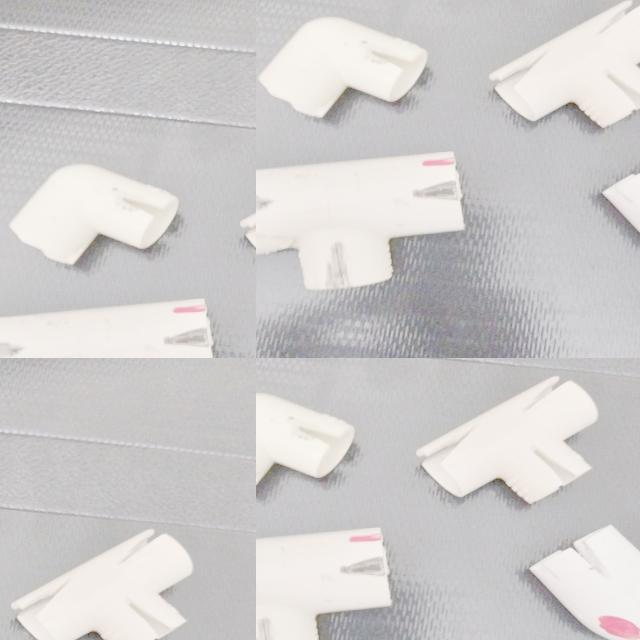Defective: (522, 439, 577, 486), (275, 423, 341, 457), (327, 556, 390, 585), (573, 539, 617, 579), (424, 435, 477, 460), (596, 615, 640, 640), (532, 381, 567, 409), (6, 0, 31, 24), (257, 619, 280, 640), (348, 534, 378, 544), (2, 18, 14, 42), (27, 14, 33, 37)
L Joint: (528, 526, 640, 640), (256, 392, 357, 492)
T Joint: (414, 372, 606, 503), (256, 527, 396, 640)
